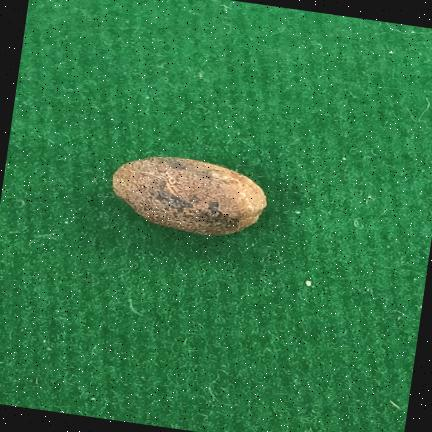partial-black: (112, 156, 266, 235)
